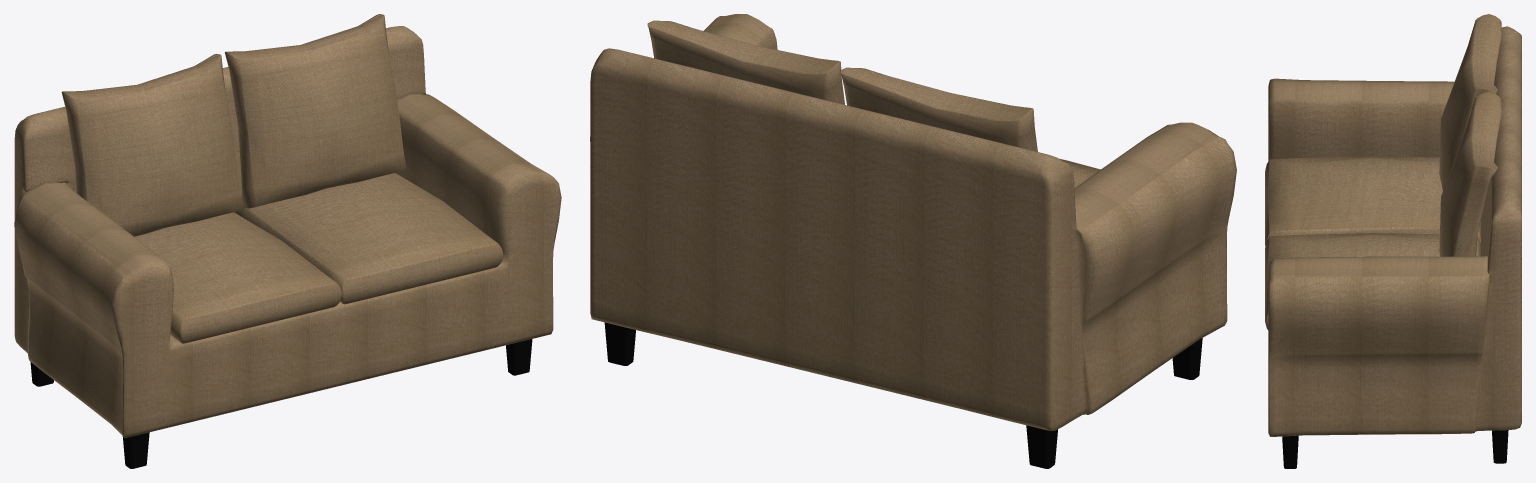
File: IKEA-Fothult_2_Seat_Sofa-2-Seat-Sofa-3D.FBX
3 renders of one model, left to right at view 1: azimuth 30°, elevation 25°; view 2: azimuth 150°, elevation 25°; view 3: azimuth 270°, elevation 25°, orthographic. The views are drawn at different scales.
Parts seen in each view (by area): view 1: Loft01; view 2: Loft01; view 3: Loft01.
Boxes of the visible parts, bbox=[...] form: Loft01: bbox=[14, 14, 561, 468]; Loft01: bbox=[590, 14, 1236, 468]; Loft01: bbox=[1265, 14, 1521, 468].
Size of the model in its own units: 1.47 by 0.7491 by 0.9122.
2 materials, 1 textured.
